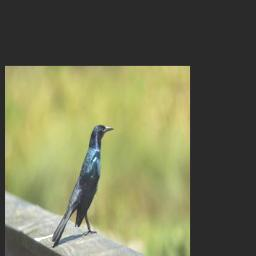Crow: (50, 123, 114, 247)
